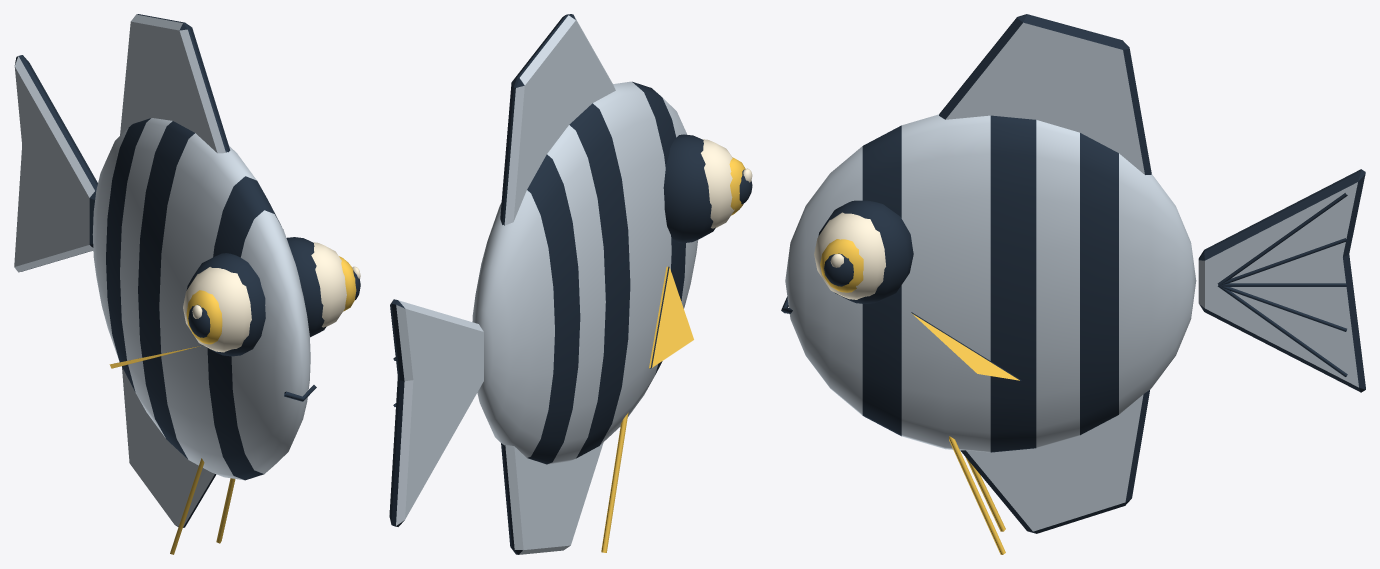
Rendered from angelfish-low.glb.
The picture shows the model from 3 angles, left to right: view 1: azimuth 30°, elevation 25°; view 2: azimuth 150°, elevation 25°; view 3: azimuth 270°, elevation 25°; orthographic projection. The views are drawn at different scales.
Parts seen in each view (by area): view 1: BodyMesh, TailMesh; view 2: BodyMesh, TailMesh; view 3: BodyMesh, TailMesh.
Part boxes in pixels (bbox=[...]): BodyMesh: bbox=[92, 14, 360, 554]; TailMesh: bbox=[14, 55, 97, 272]; BodyMesh: bbox=[472, 14, 752, 554]; TailMesh: bbox=[389, 299, 483, 526]; BodyMesh: bbox=[781, 14, 1196, 554]; TailMesh: bbox=[1198, 169, 1365, 392].
Size of the model in its own units: 0.9125 by 2.33 by 2.33.
